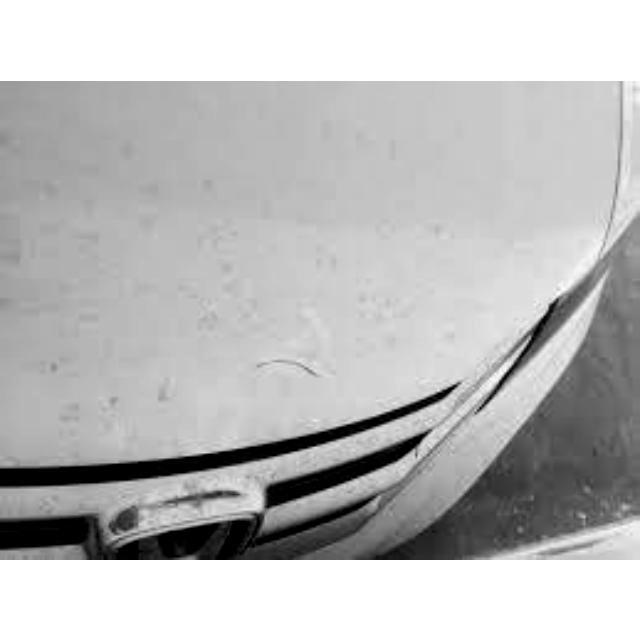bonnet-dent: (1, 91, 574, 520)
